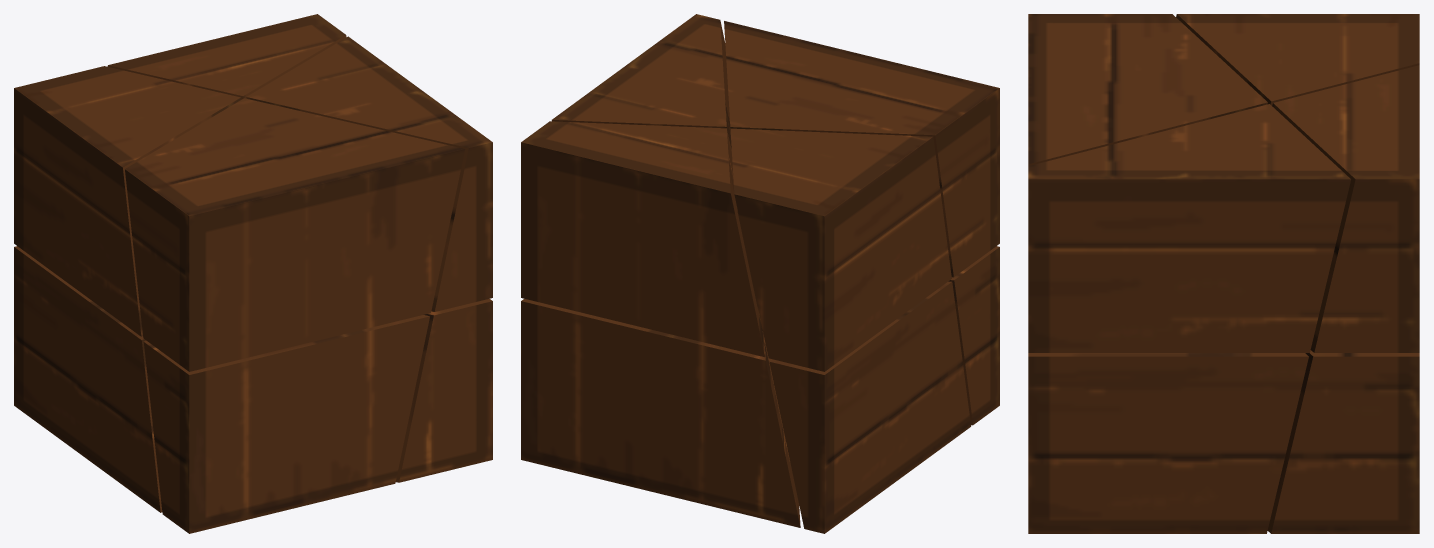
File: ExplodedCrate.FBX
The picture shows the model from 3 angles, left to right: view 1: azimuth 30°, elevation 25°; view 2: azimuth 150°, elevation 25°; view 3: azimuth 270°, elevation 25°; orthographic projection. The views are drawn at different scales.
Visible parts, largest first — view 1: Object004, Object005, Object002, Object006, Object003, Object008, Object001; view 2: Object001, Object007, Object002, Object004, Object006, Object003, Object005; view 3: Object003, Object008, Object001, Object004, Object007, Object002.
Boxes of the visible parts, x1,y1,x2,y2 form: Object004: (125,98,464,371); Object005: (143,315,429,533); Object002: (14,66,241,336); Object006: (14,246,162,512); Object003: (246,36,492,311); Object008: (396,299,492,482); Object001: (107,14,346,99); Object001: (521,121,764,357); Object007: (521,299,800,527); Object002: (730,128,951,371); Object004: (724,21,999,277); Object006: (769,281,970,533); Object003: (551,14,731,147); Object005: (948,246,999,425); Object003: (1028,104,1350,352); Object008: (1028,353,1308,533); Object001: (1272,65,1419,352); Object004: (1028,14,1267,166); Object007: (1267,350,1419,533); Object002: (1176,14,1419,105).
Bounding box in the file's own units: 1 × 1 × 1.
1 material, 1 textured.
